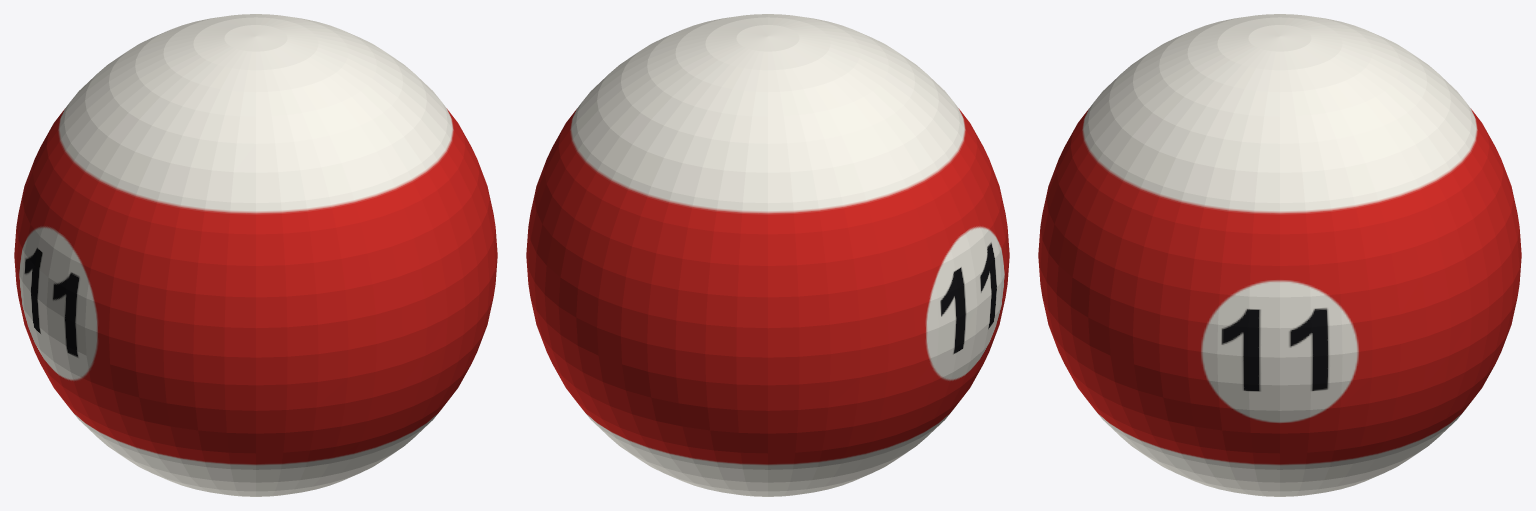
Rendered from ball_11.obj.
3 renders of one model, left to right at view 1: azimuth 30°, elevation 25°; view 2: azimuth 150°, elevation 25°; view 3: azimuth 270°, elevation 25°, orthographic.
Bounding box in the file's own units: 0.0571 × 0.0571 × 0.0571.
Materials: 1 (1 with a texture image).
